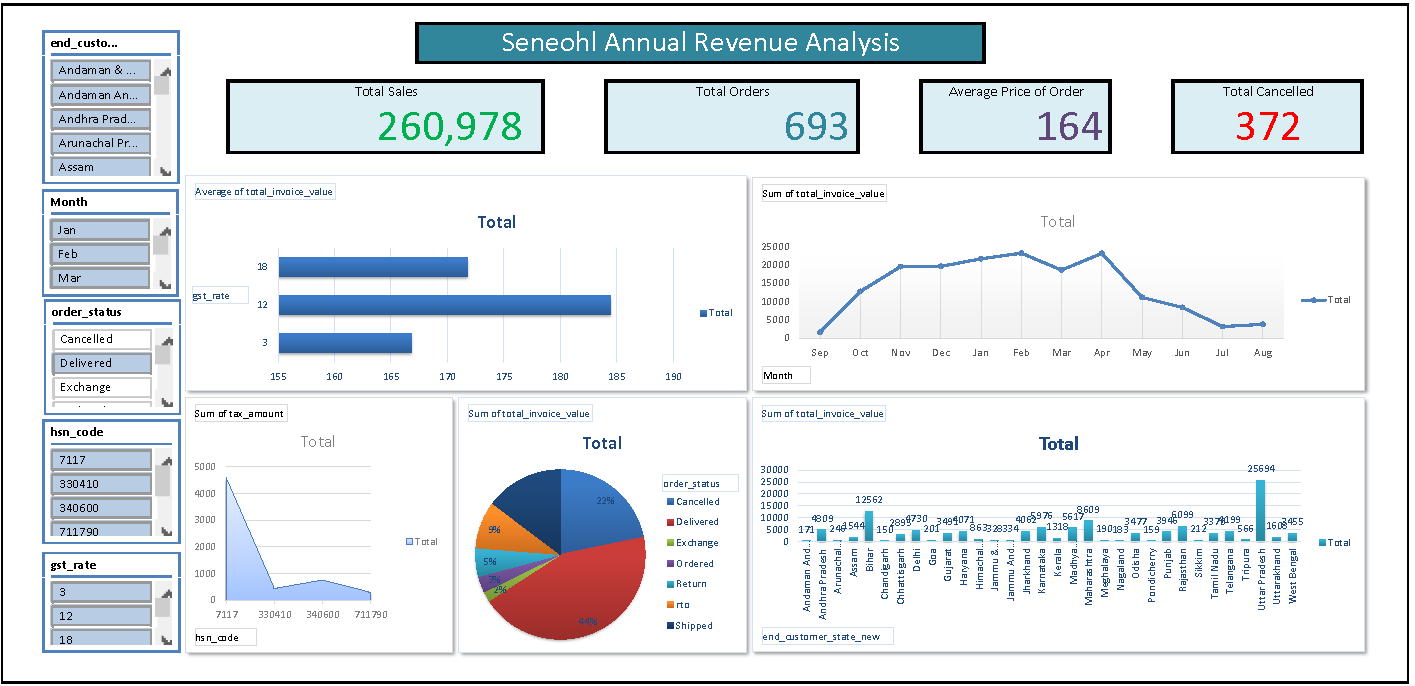

Layout of this report page (visuals, bound fields, positions):
{"tool":"tableau","page":{"name":"Dashboard ","canvas":[1024,768],"ordinal":0},"visuals":[{"type":"text","box":[190,5,536,39]},{"type":"worksheet","title":"Total Sales","mark":"Automatic","box":[794,7,223,150.2]},{"type":"filter","title":"Avg Order by Status * Status","param":"[federated.1fuvl6y0j8v0811h9o1nd1wq11ws].[none:order_status:nk]","box":[6,8,117,165.7]},{"type":"worksheet","title":"By Month","mark":"Automatic","rows":["Month"],"cols":["total_taxable_sale_value"],"box":[484,58,301,253.5]},{"type":"worksheet","title":"By States","mark":"Automatic","rows":["end_customer_state_new"],"cols":["total_invoice_value"],"box":[129,59,346,454]},{"type":"worksheet","title":"Total Orders","mark":"Automatic","box":[794,157.2,223,150.2]},{"type":"filter","title":"Avg Order by Status * Status","param":"[federated.1fuvl6y0j8v0811h9o1nd1wq11ws].[none:gst_rate:ok]","box":[6,173.7,117,110]},{"type":"filter","title":"Avg Order by Status * Status","param":"[federated.1fuvl6y0j8v0811h9o1nd1wq11ws].[none:hsn_code:ok]","box":[6,283.7,117,148]},{"type":"worksheet","title":"Highest Order Price","mark":"Automatic","box":[794,307.4,223,150.2]},{"type":"worksheet","title":"Avg /Status","mark":"Automatic","rows":["order_status"],"cols":["total_invoice_value"],"box":[484,311.5,301,253.5]},{"type":"filter","title":"Avg Order by Status * Status","param":"[federated.1fuvl6y0j8v0811h9o1nd1wq11ws].[none:Month:nk]","box":[6,431.7,117,165.7]},{"type":"worksheet","title":"Avg Order","mark":"Automatic","box":[794,457.6,223,150.2]},{"type":"worksheet","title":"Avg Order by Status * Status","mark":"Automatic","rows":["total_invoice_value"],"cols":["end_customer_state_new"],"box":[129,513,346,249]},{"type":"worksheet","title":"By Status","mark":"Automatic","rows":["total_taxable_sale_value"],"cols":["order_status"],"box":[484,565,301,194]},{"type":"filter","title":"Avg Order by Status * Status","param":"[federated.1fuvl6y0j8v0811h9o1nd1wq11ws].[none:end_customer_state_new:nk]","box":[6,597.3,117,165.7]},{"type":"worksheet","title":"Total Tax","mark":"Automatic","box":[794,607.8,223,150.2]}]}

Visuals, with their boxes on the page's 1024x768 design canvas (x1, y1, x2, y2). These are canvas units, not pixel positions in the 1415x686 screenshot, which may show the page scaled, cropped or inside an application window:
text: 190/5/726/44
"Total Sales" worksheet: 794/7/1017/157
"Avg Order by Status * Status" filter: 6/8/123/174
"By Month" worksheet: 484/58/785/312
"By States" worksheet: 129/59/475/513
"Total Orders" worksheet: 794/157/1017/307
"Avg Order by Status * Status" filter: 6/174/123/284
"Avg Order by Status * Status" filter: 6/284/123/432
"Highest Order Price" worksheet: 794/307/1017/458
"Avg /Status" worksheet: 484/312/785/565
"Avg Order by Status * Status" filter: 6/432/123/597
"Avg Order" worksheet: 794/458/1017/608
"Avg Order by Status * Status" worksheet: 129/513/475/762
"By Status" worksheet: 484/565/785/759
"Avg Order by Status * Status" filter: 6/597/123/763
"Total Tax" worksheet: 794/608/1017/758
